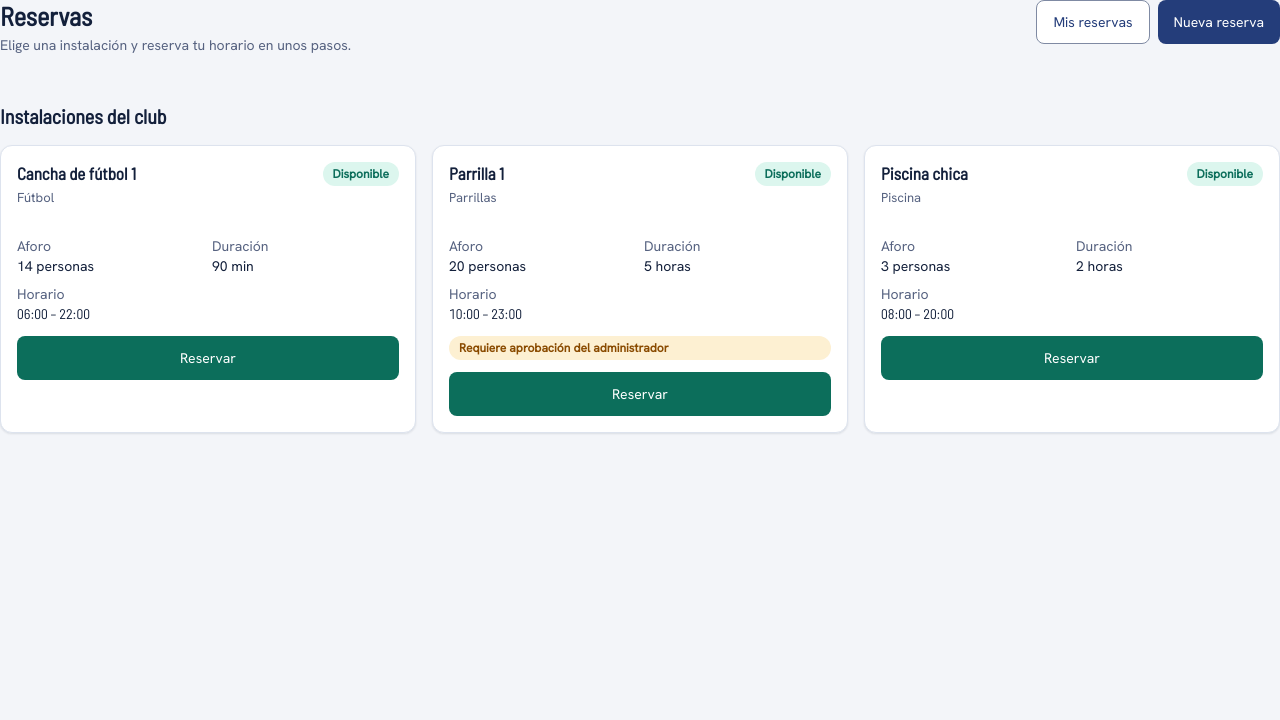
Test: ReservationsPage — asistente de reserva (US-072, US-032) › flujo feliz: reserva confirmada con payload exacto, aviso, cierre y refresco (criterio 9)
The width and height of the screenshot is (1280, 720).
expect the heading "Cancha de fútbol 1" is shown: met, box [17,162,136,185]
Click the button with aria-label "Reservar Cancha de fútbol 1" at (208, 358), box [17,336,399,380]
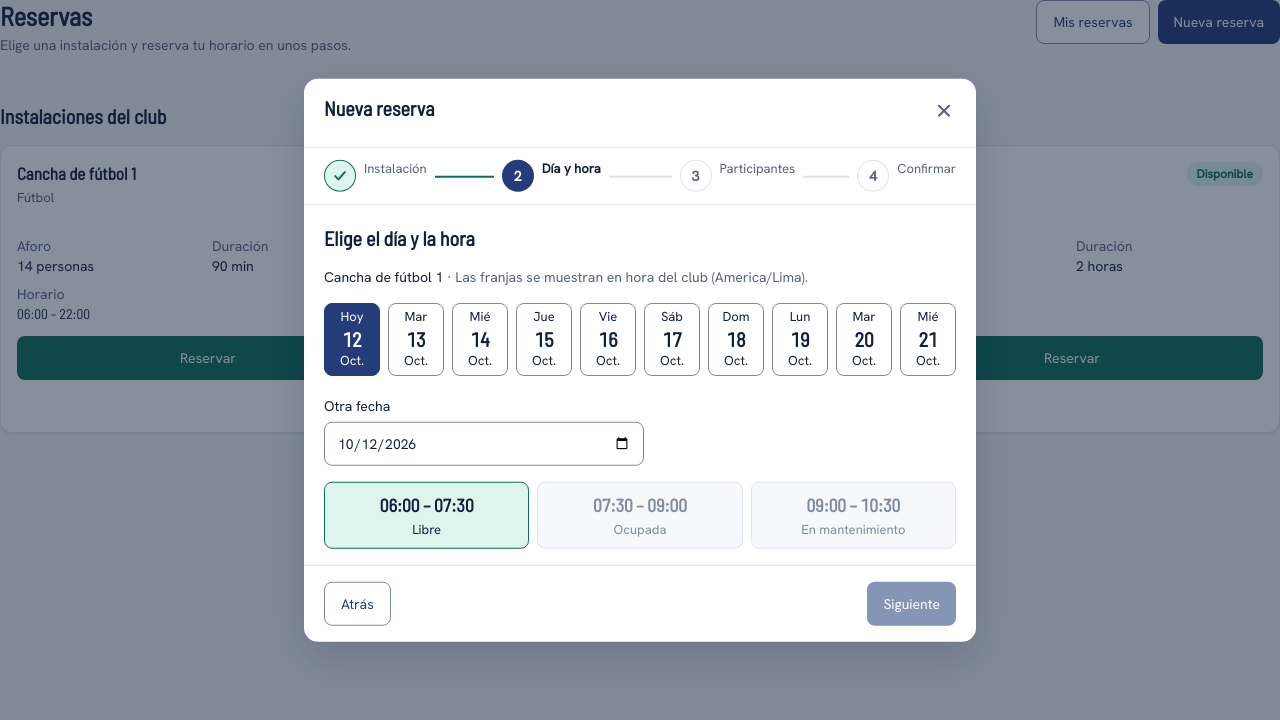
Click the button with aria-label "franja 06:00 – 07:30, disponible" at (427, 515), box [324,481,529,548]
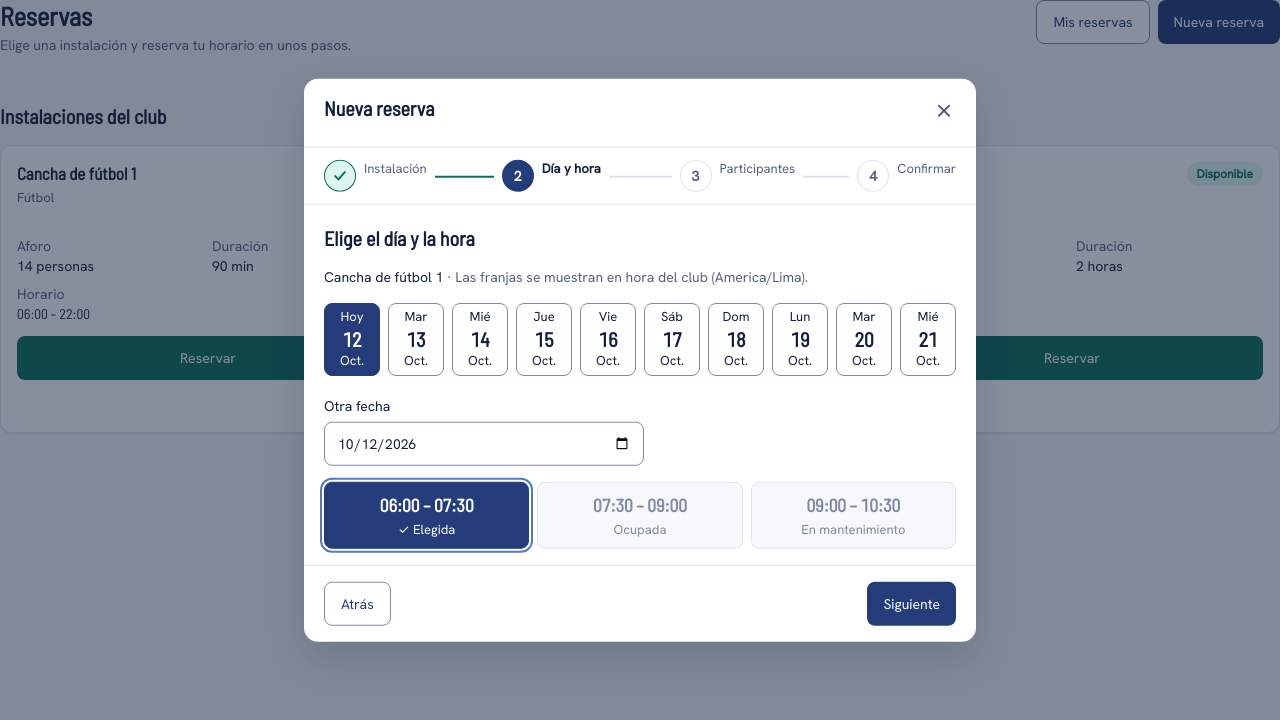
Click the button "Siguiente" at (912, 603), box [867,581,956,625]
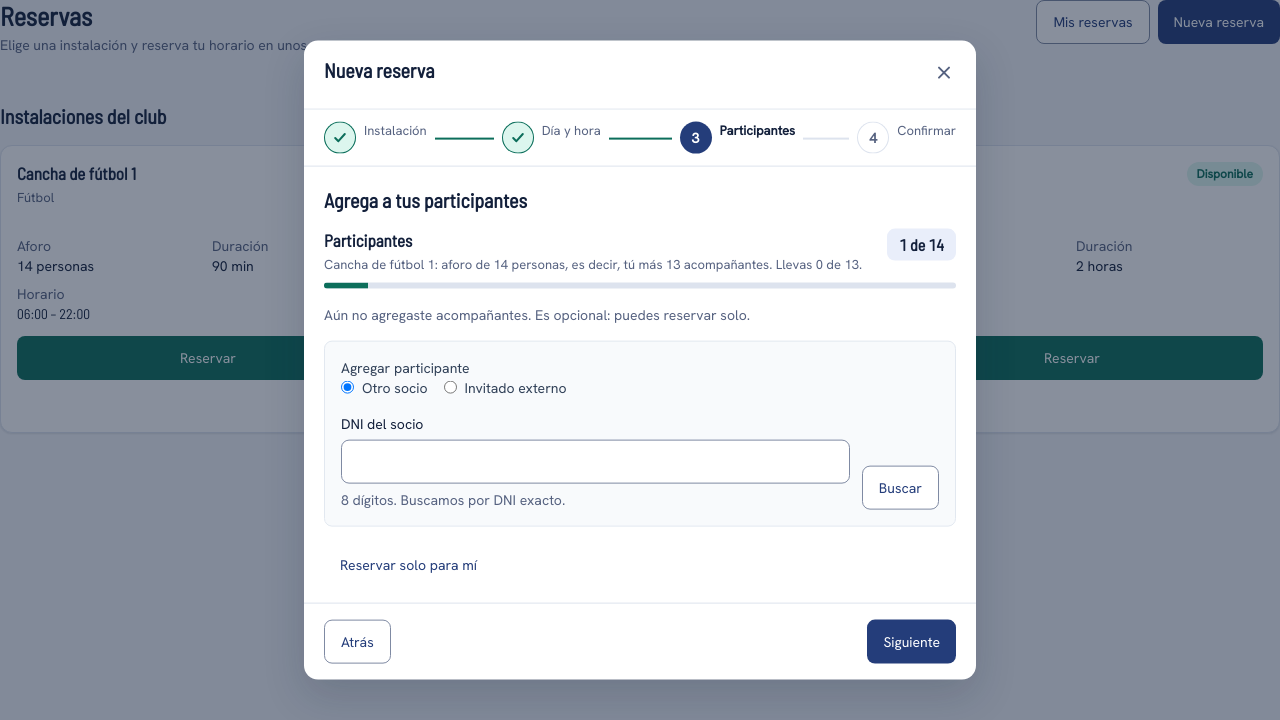
Click the button "Siguiente" at (912, 641), box [867,619,956,663]
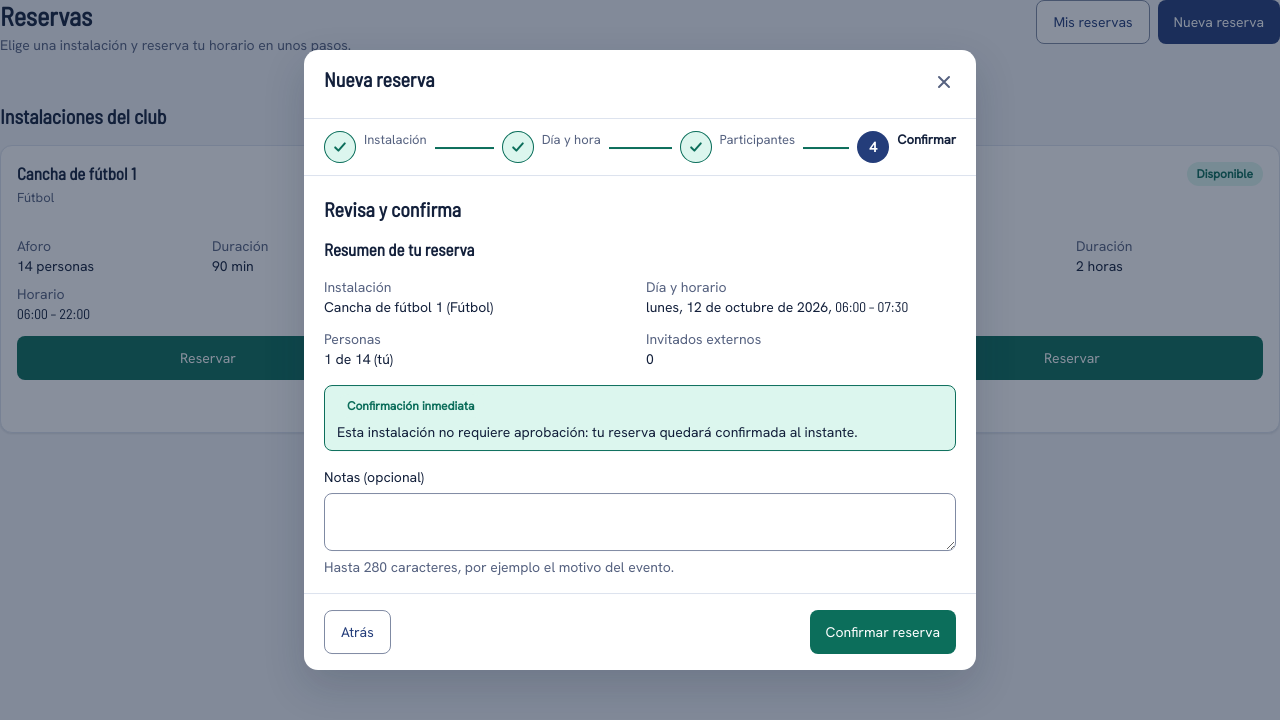
expect the heading "Resumen de tu reserva" is shown: met, box [324,239,474,259]
expect the text "Confirmación inmediata" is shown: met, box [337,394,484,418]
Click the button "Confirmar reserva" at (883, 632), box [810,610,956,654]
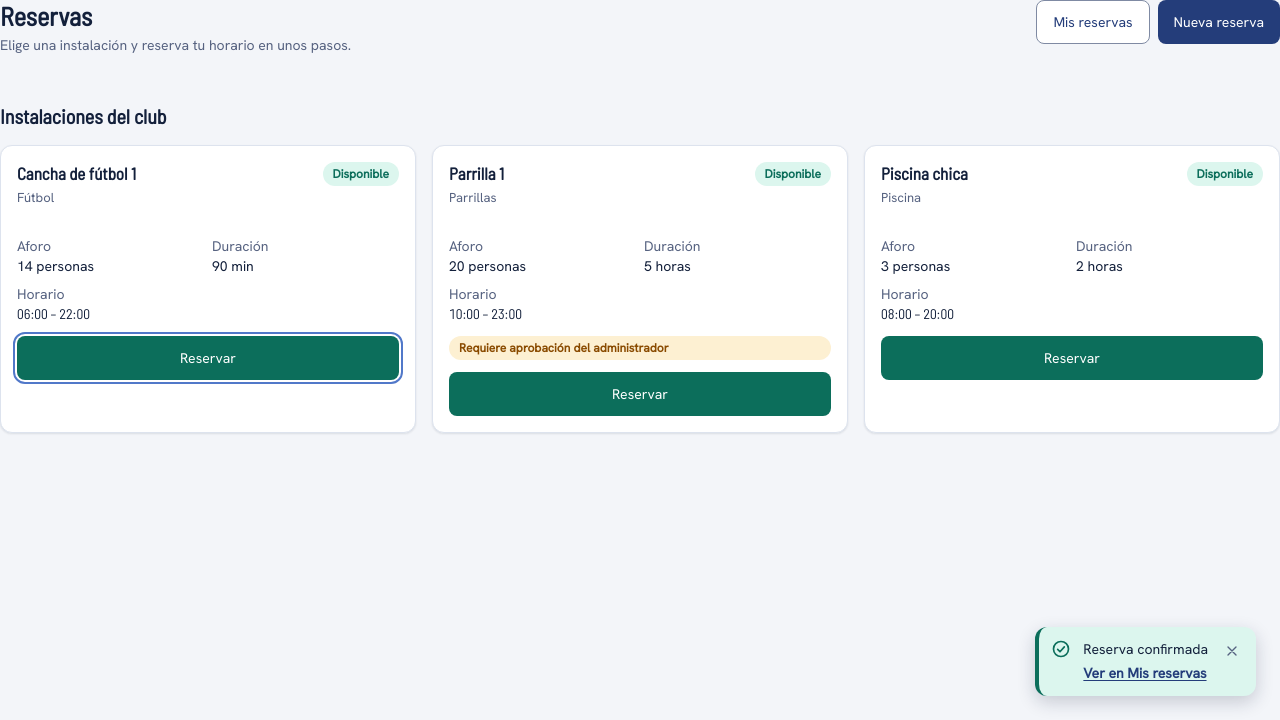
expect the text "Reserva confirmada" is shown: met, box [1083,638,1208,658]
expect the button "Ver en Mis reservas" is shown: met, box [1083,662,1207,682]
expect the dialog is gone: met
